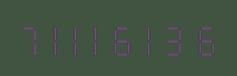one: (42, 20, 66, 56), (67, 20, 91, 56), (92, 20, 116, 56), (142, 20, 166, 56)
seven: (17, 20, 41, 56)
six: (117, 20, 141, 56), (192, 20, 216, 56)
three: (167, 20, 191, 56)
